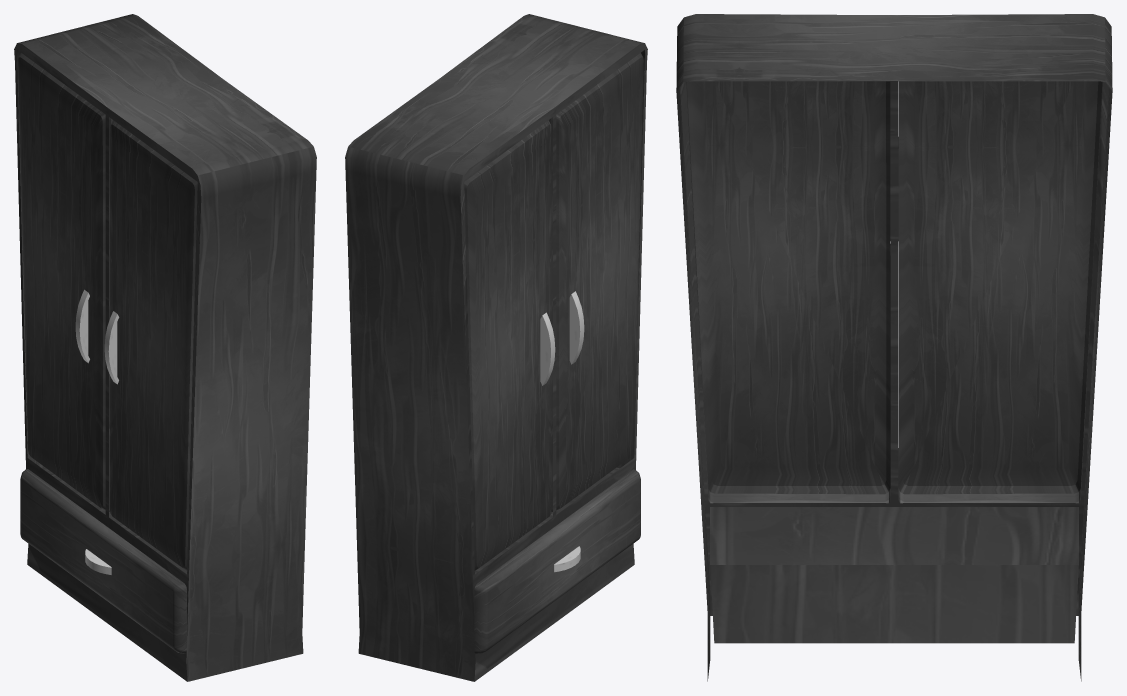
File: SM_Closet.fbx
3 renders of one model, left to right at view 1: azimuth 30°, elevation 25°; view 2: azimuth 150°, elevation 25°; view 3: azimuth 270°, elevation 25°, orthographic. The views are drawn at different scales.
Parts seen in each view (by area): view 1: SM_Closet; view 2: SM_Closet; view 3: SM_Closet.
Part boxes in pixels (x1=…): SM_Closet: x1=14, y1=14, x2=316, y2=681; SM_Closet: x1=345, y1=14, x2=647, y2=681; SM_Closet: x1=676, y1=14, x2=1112, y2=681.
Bounding box in the file's own units: 126 × 461 × 303.
